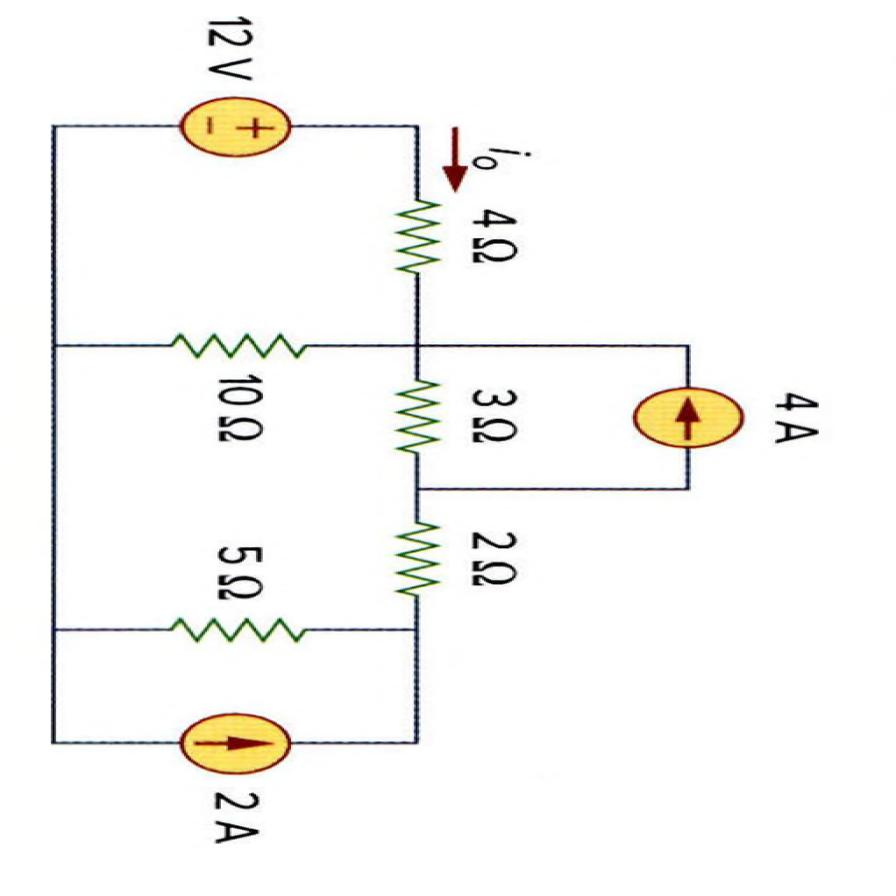I2: (164, 708, 294, 777)
V2: (167, 92, 297, 162)
